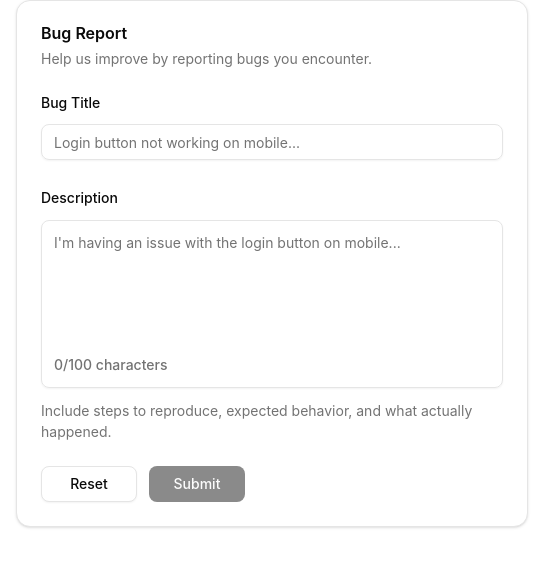
BugReportForm › form display and validation › shows error when title is shorter than 5 characters
The width and height of the screenshot is (545, 577).
In the field labelled "Bug Title": [272, 142] box [41,124,503,160], type "ab"
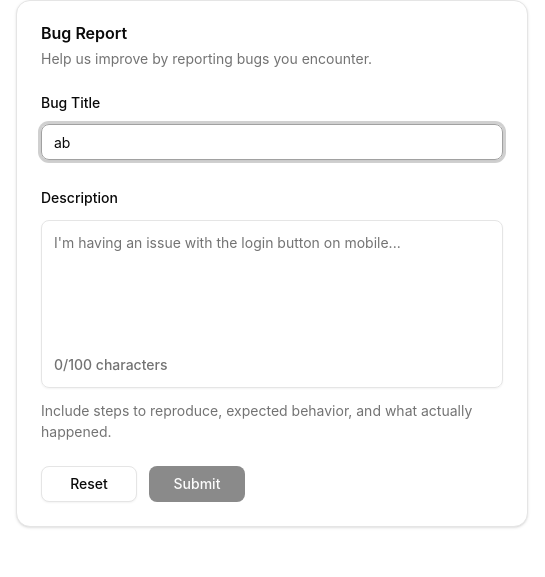
Press Tab
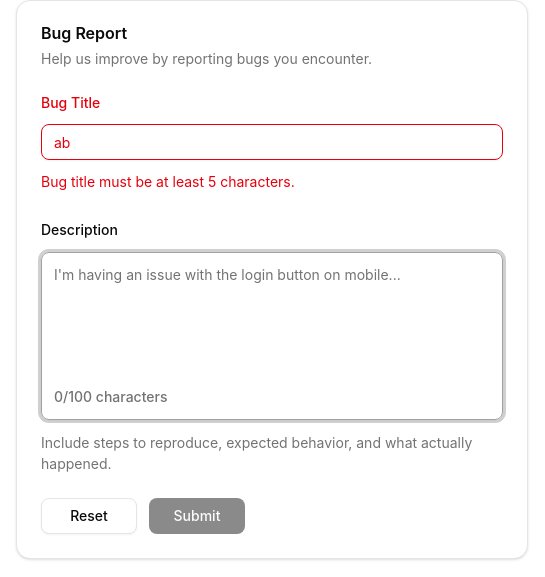
Now the text "Bug title must be at least 5 characters." is shown, box [41,173,295,190]
